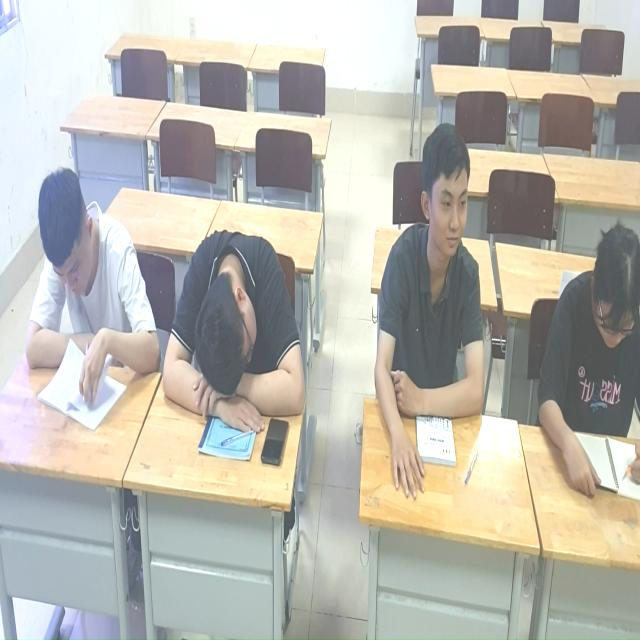read: (371, 115, 490, 487), (9, 155, 155, 430), (537, 227, 640, 499)
sleep: (152, 207, 308, 444)
